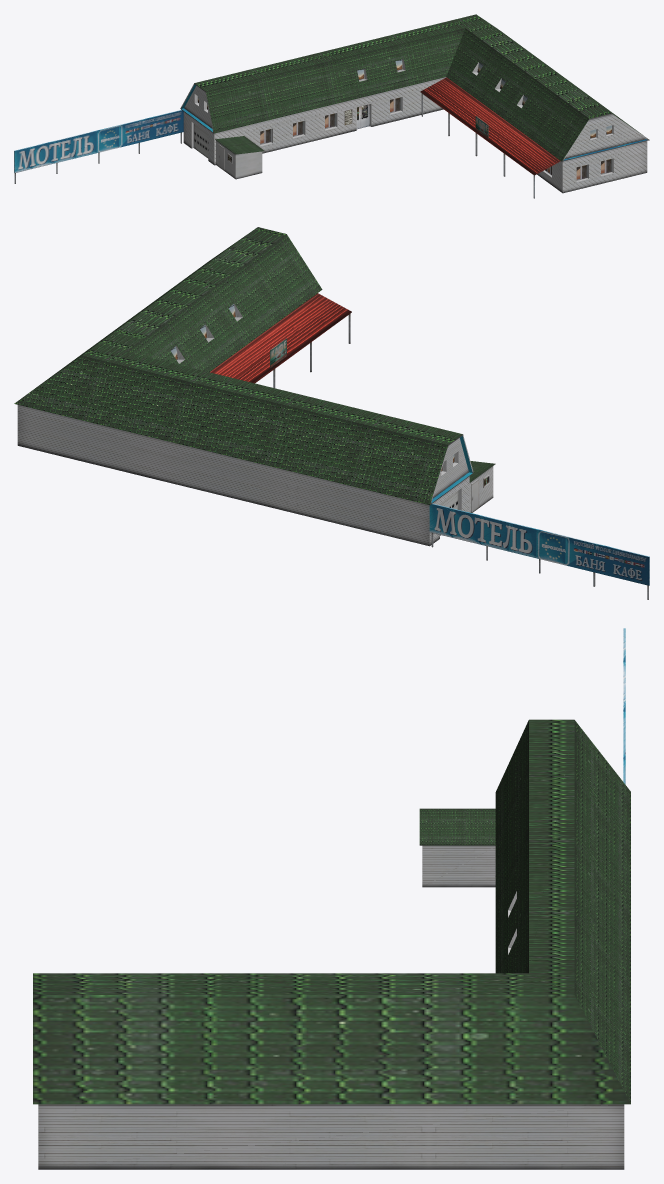
Rendered from e30_kafe.FBX.
3 views of the same model, one above another, from view 1: azimuth 30°, elevation 25°; view 2: azimuth 150°, elevation 25°; view 3: azimuth 270°, elevation 25° (orthographic). The views are drawn at different scales.
Visible parts, largest first — view 1: e30_kafe; view 2: e30_kafe; view 3: e30_kafe.
Boxes of the visible parts, box(x1,y1,x2,y2) form: e30_kafe: box(14, 14, 649, 198); e30_kafe: box(14, 227, 649, 599); e30_kafe: box(33, 628, 630, 1169).
Bounding box in the file's own units: 46.13 × 24.49 × 6.26.
